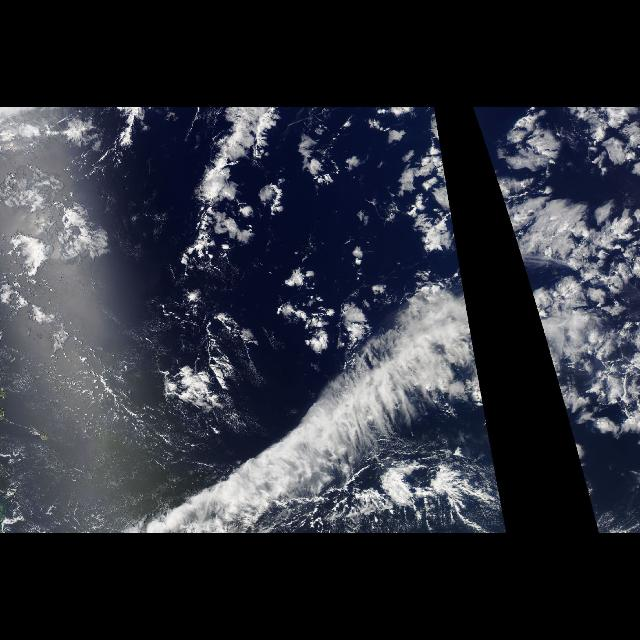Fish: (165, 264, 509, 530), (523, 264, 611, 530)
Sugar: (3, 276, 203, 486)
